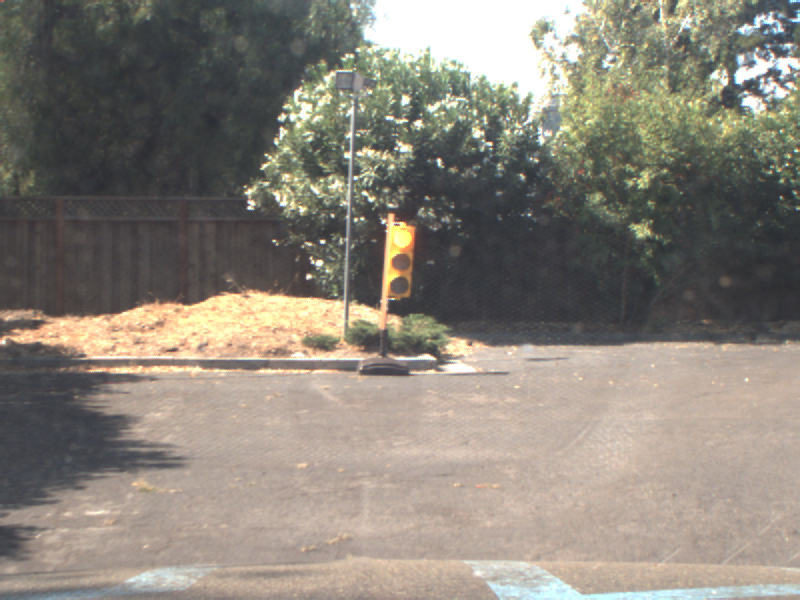red: (384, 214, 412, 301)
